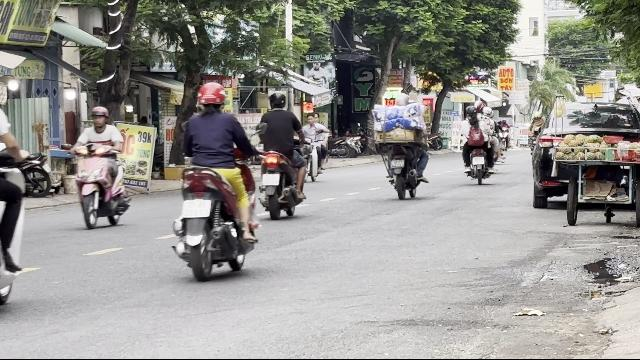helmet: (194, 82, 226, 112), (90, 105, 108, 127), (268, 91, 286, 109), (396, 94, 408, 106)
licenseplate: (182, 199, 210, 217), (262, 174, 278, 185), (391, 159, 404, 167)
motorcyclist: (172, 80, 260, 280), (70, 106, 130, 228), (255, 90, 308, 218), (372, 91, 431, 199)
